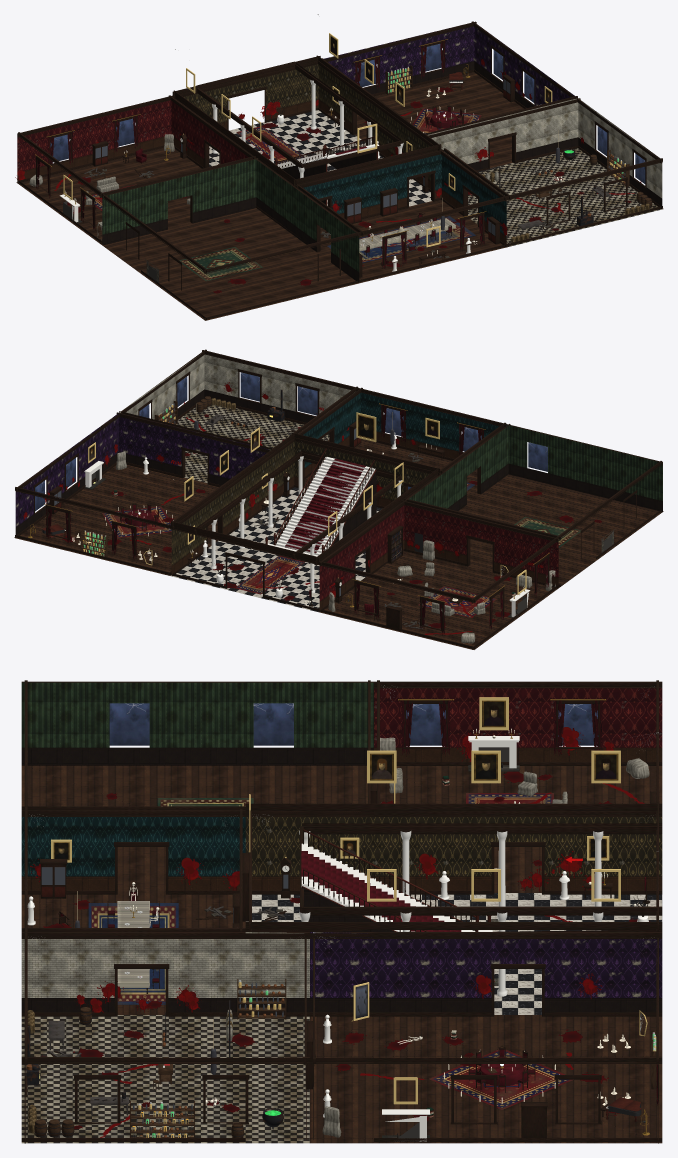
The model's file is house_ground_v14.glb.
3 renders of one model, top to bottom at view 1: azimuth 30°, elevation 25°; view 2: azimuth 150°, elevation 25°; view 3: azimuth 270°, elevation 25°, orthographic. The views are drawn at different scales.
Visible parts, largest first — view 1: house_ground; view 2: house_ground; view 3: house_ground.
Boxes of the visible parts, box(x1,y1,x2,y2) form: house_ground: box(15, 14, 663, 320); house_ground: box(14, 349, 663, 649); house_ground: box(21, 680, 662, 1143).
Bounding box in the file's own units: 56.48 × 11.45 × 40.58.
80 materials, 62 textured.
